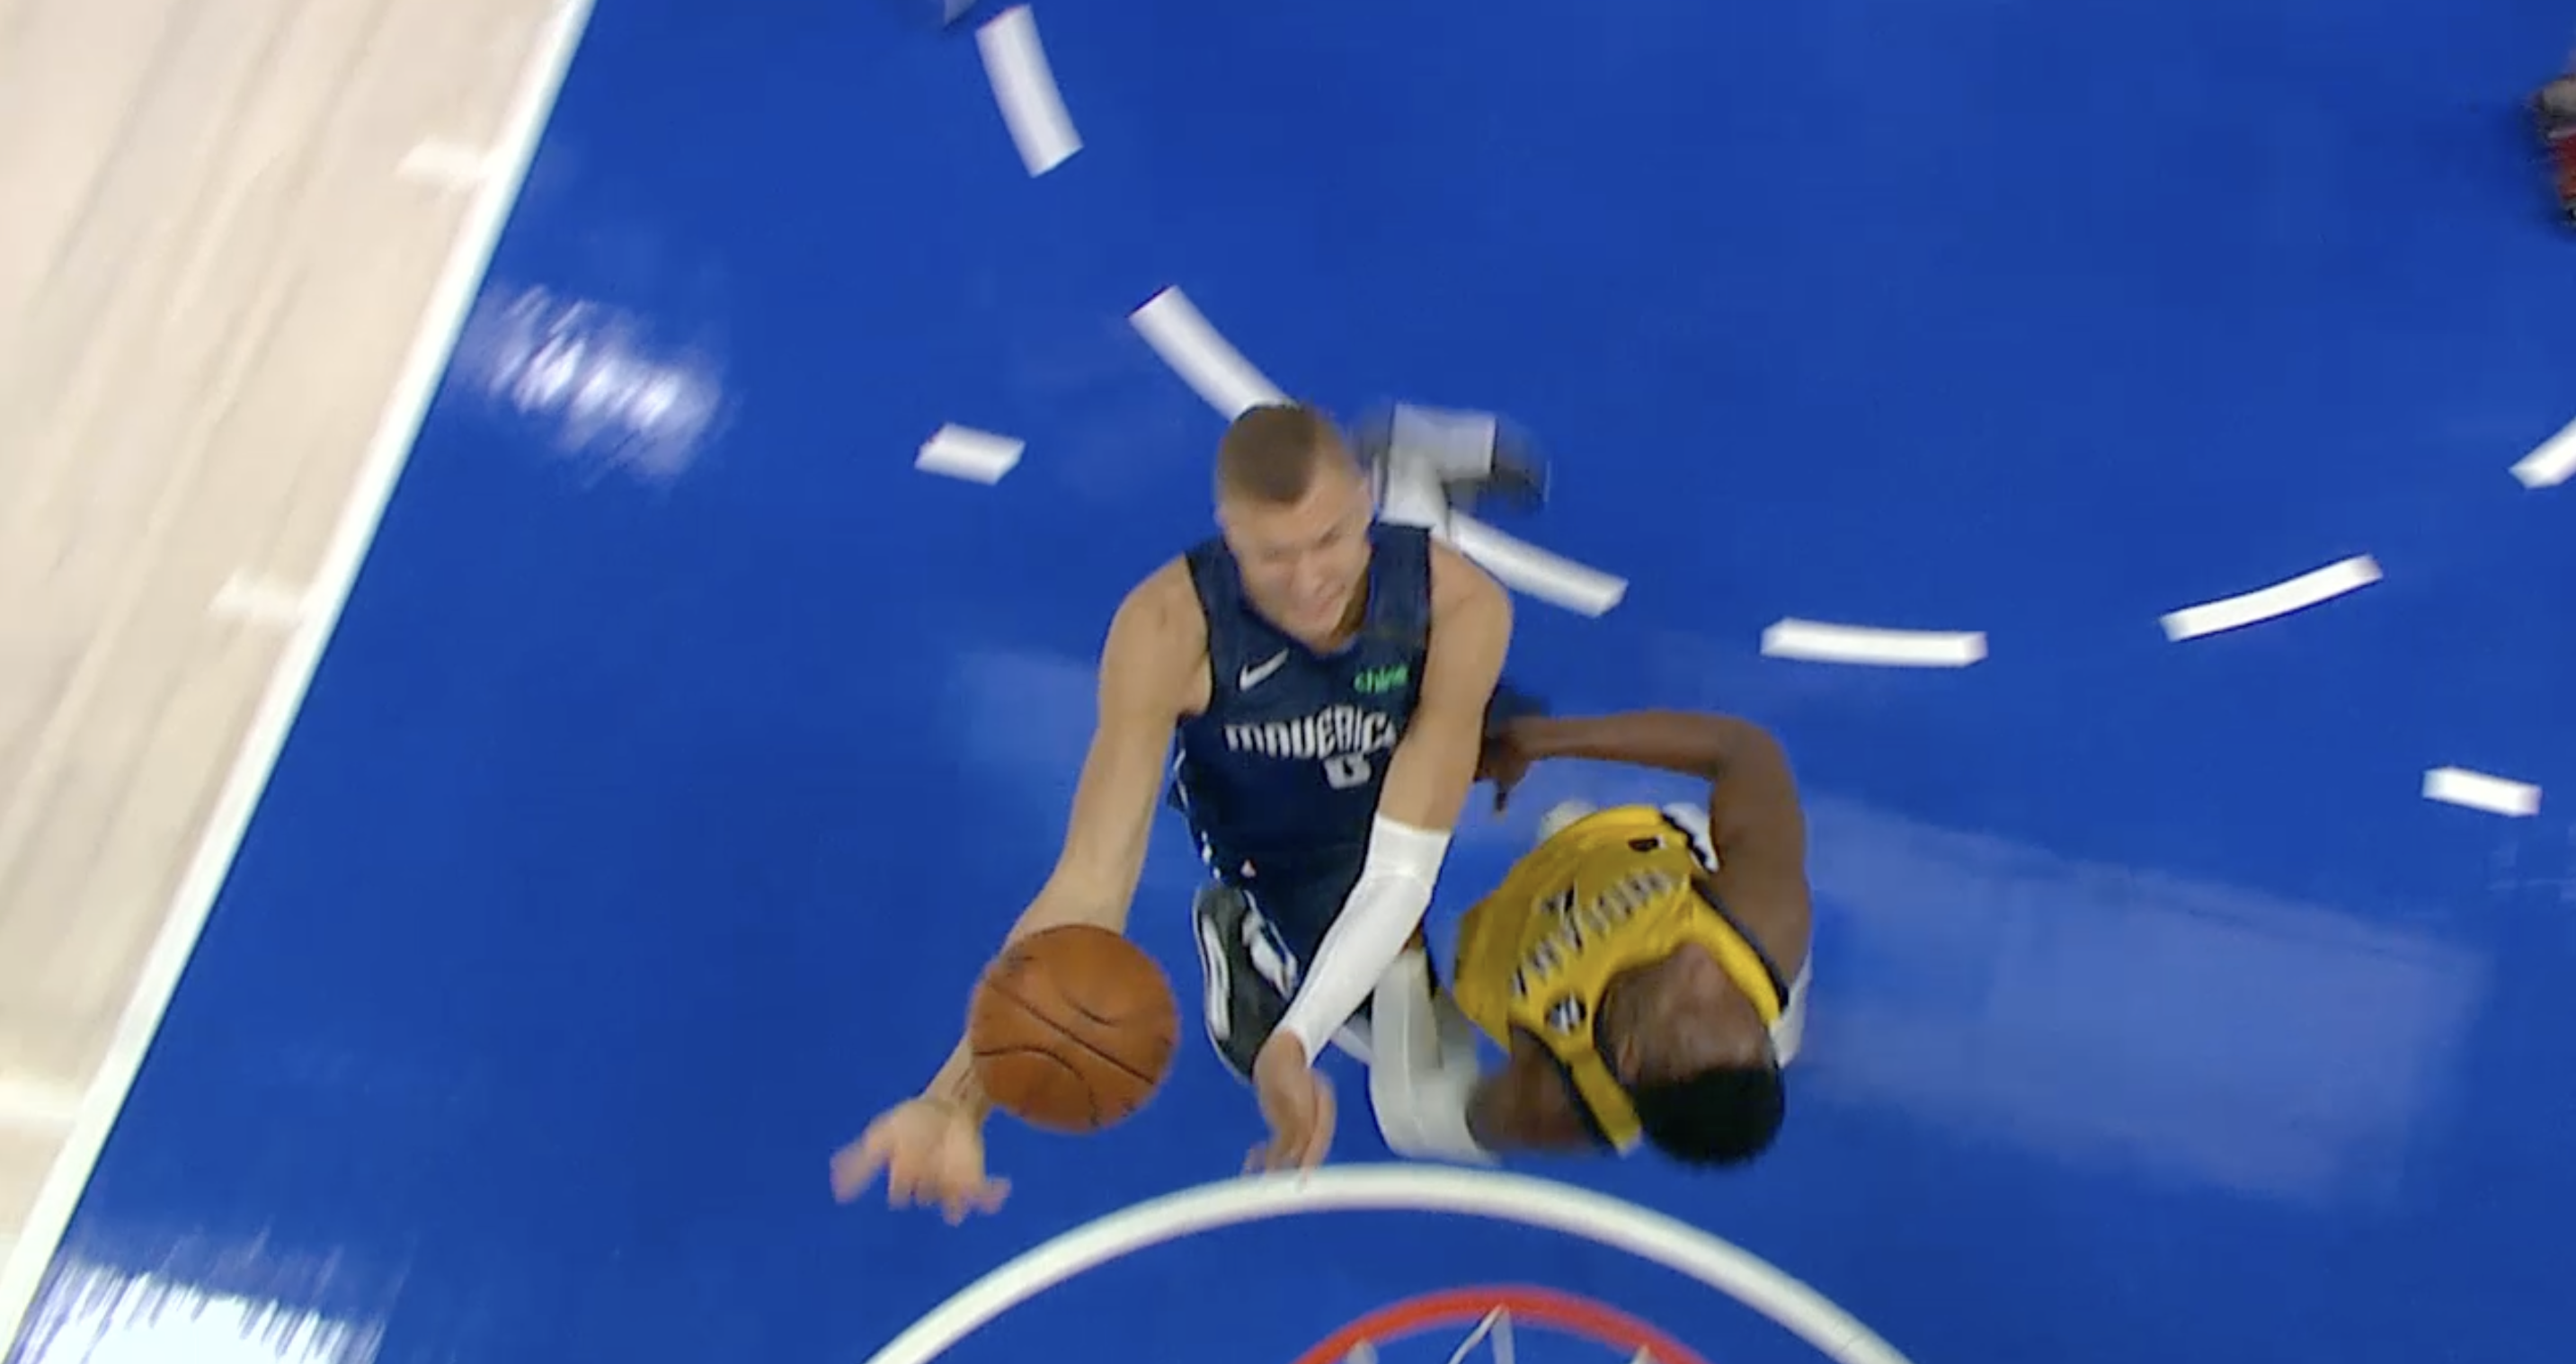Foul: (990, 363, 1958, 1197)
